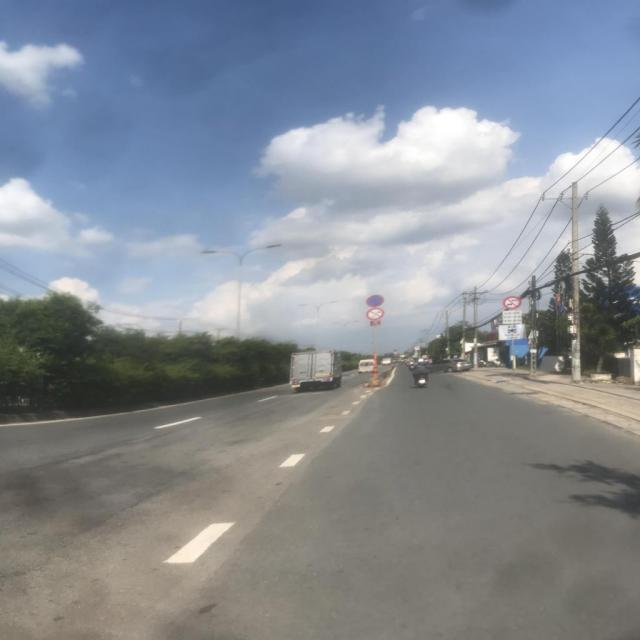cam_dung_xe_va_do_xe: (366, 295, 384, 307)
cam_o_to_tai_va_xe_khach: (502, 296, 522, 310)
cam_xe_2_banh_va_xe_3_banh_co_dong_co: (366, 308, 384, 320)
khac: (498, 324, 526, 340), (502, 311, 521, 324)
